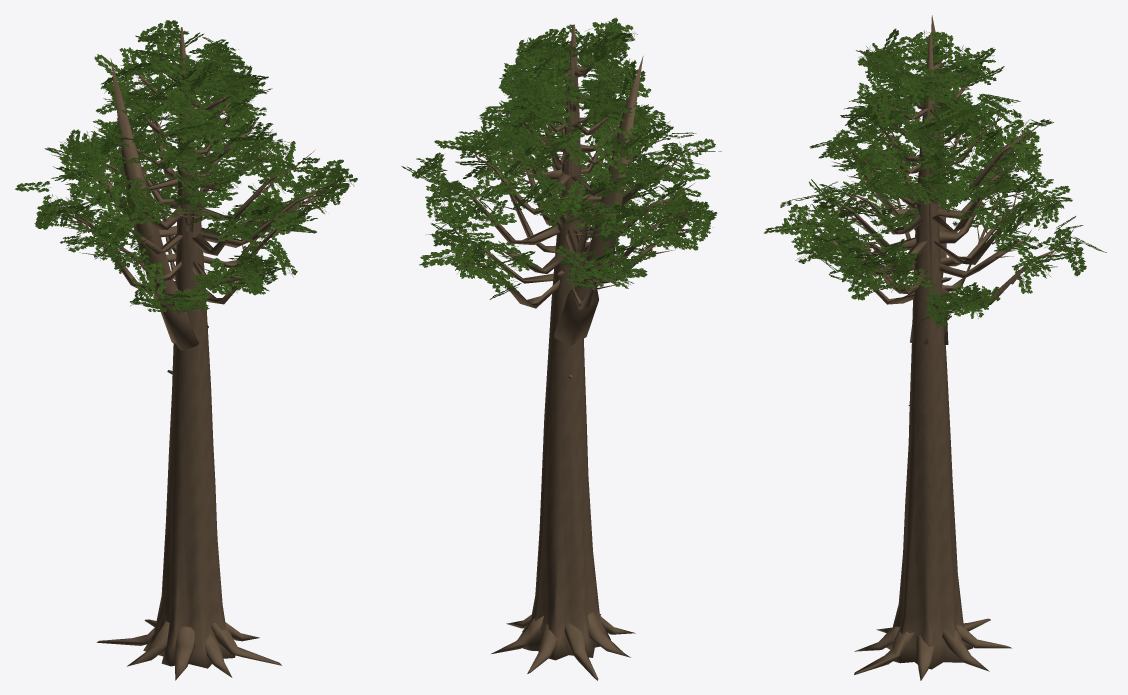
The model's file is GF2_Tree_C_OldFork_LOD2.fbx.
3 views of the same model, side by side, from view 1: azimuth 30°, elevation 25°; view 2: azimuth 150°, elevation 25°; view 3: azimuth 270°, elevation 25° (orthographic). The views are drawn at different scales.
Parts seen in each view (by area): view 1: GF2_Tree_C_OldFork_LOD2; view 2: GF2_Tree_C_OldFork_LOD2; view 3: GF2_Tree_C_OldFork_LOD2.
Part boxes in pixels (x1,y1,x2,y2): GF2_Tree_C_OldFork_LOD2: [15, 20, 357, 680]; GF2_Tree_C_OldFork_LOD2: [401, 17, 721, 680]; GF2_Tree_C_OldFork_LOD2: [764, 15, 1106, 680].
Size of the model in its own units: 55.62 by 114 by 59.64.
